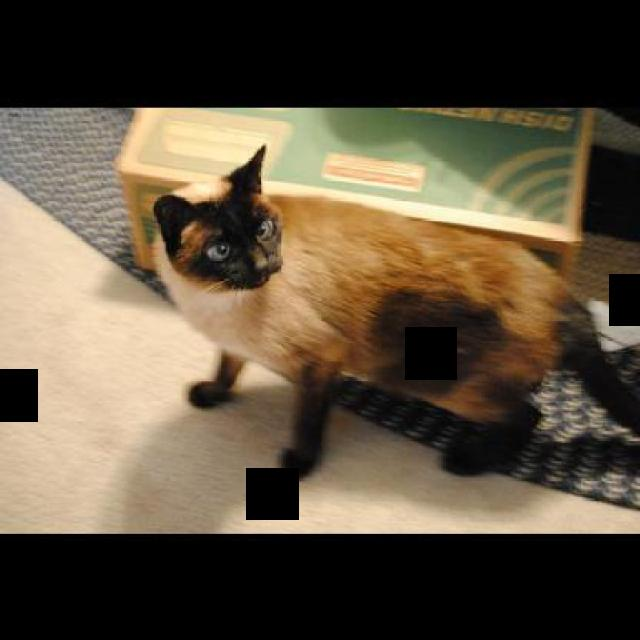unauthorized: (150, 142, 638, 512)
